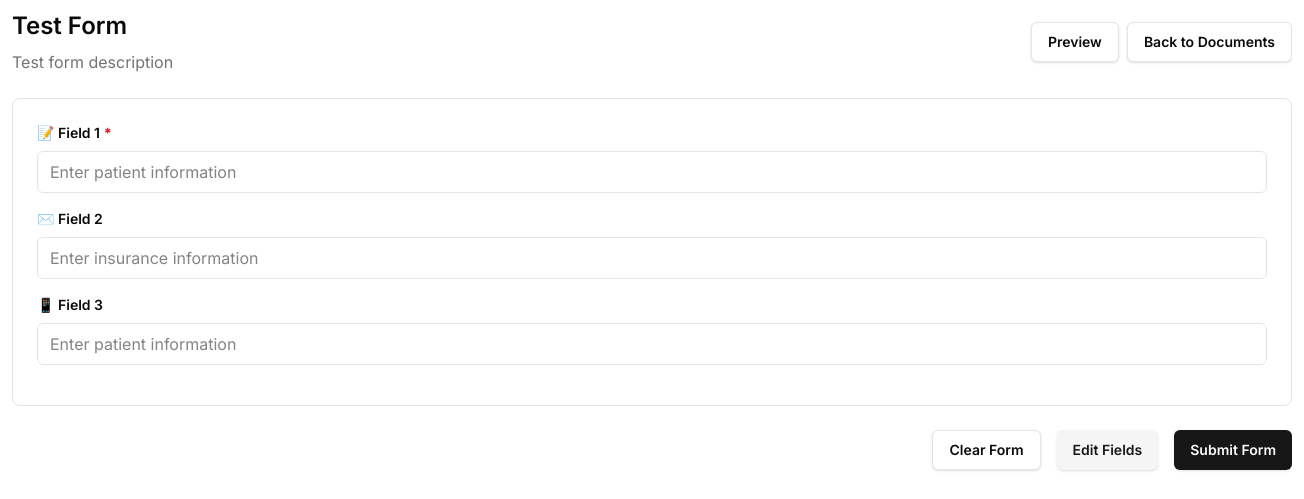
Test: FormBuilder › Preview Mode › switches to preview mode
Click the button "Preview": (1075, 42) [1031, 22, 1119, 62]
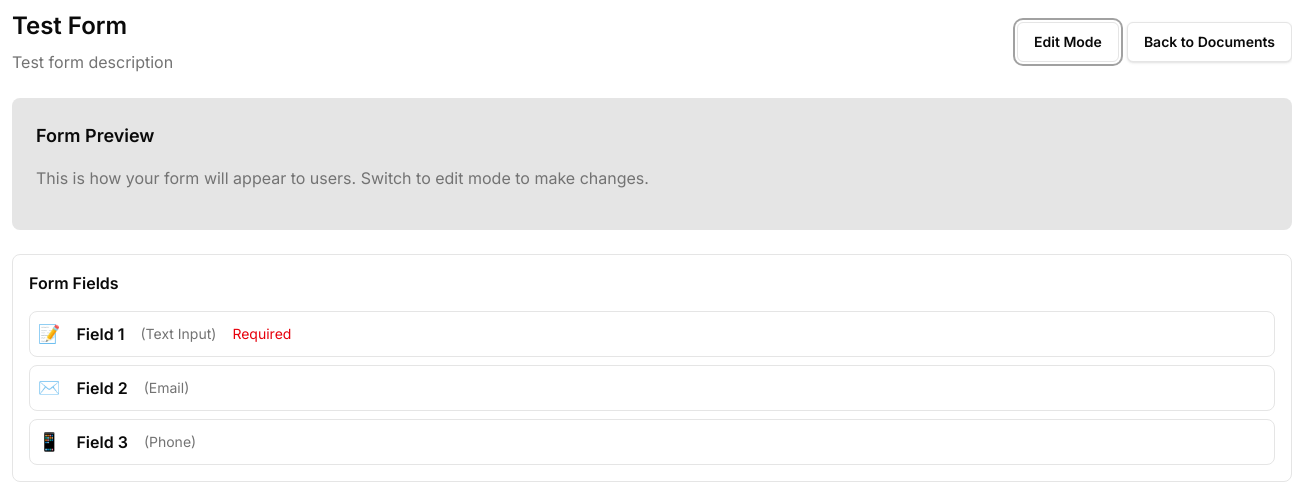
Check: the heading "Form Preview" is shown, box [36, 125, 154, 146]
Check: the button "Edit Mode" is shown, box [1017, 22, 1119, 62]
